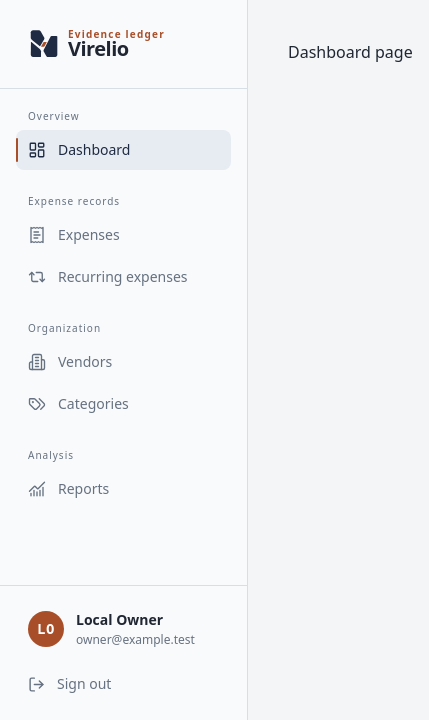
it: App › links authenticated users to profile settings
Click the link "LO Local Owner owner@example.test". click: (111, 629)
box: [28, 610, 195, 648]
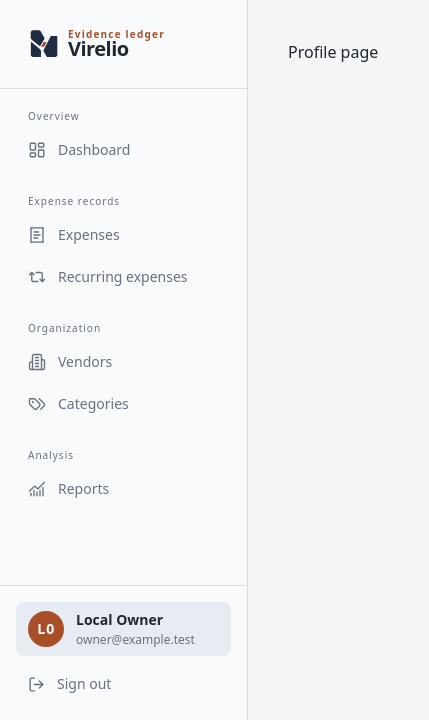
expect the text "Profile page" is shown: met, box [288, 41, 378, 63]
